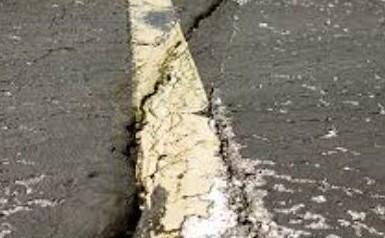crack: (100, 0, 225, 238), (245, 141, 385, 238), (219, 79, 385, 146), (189, 86, 260, 238), (0, 167, 81, 237)
